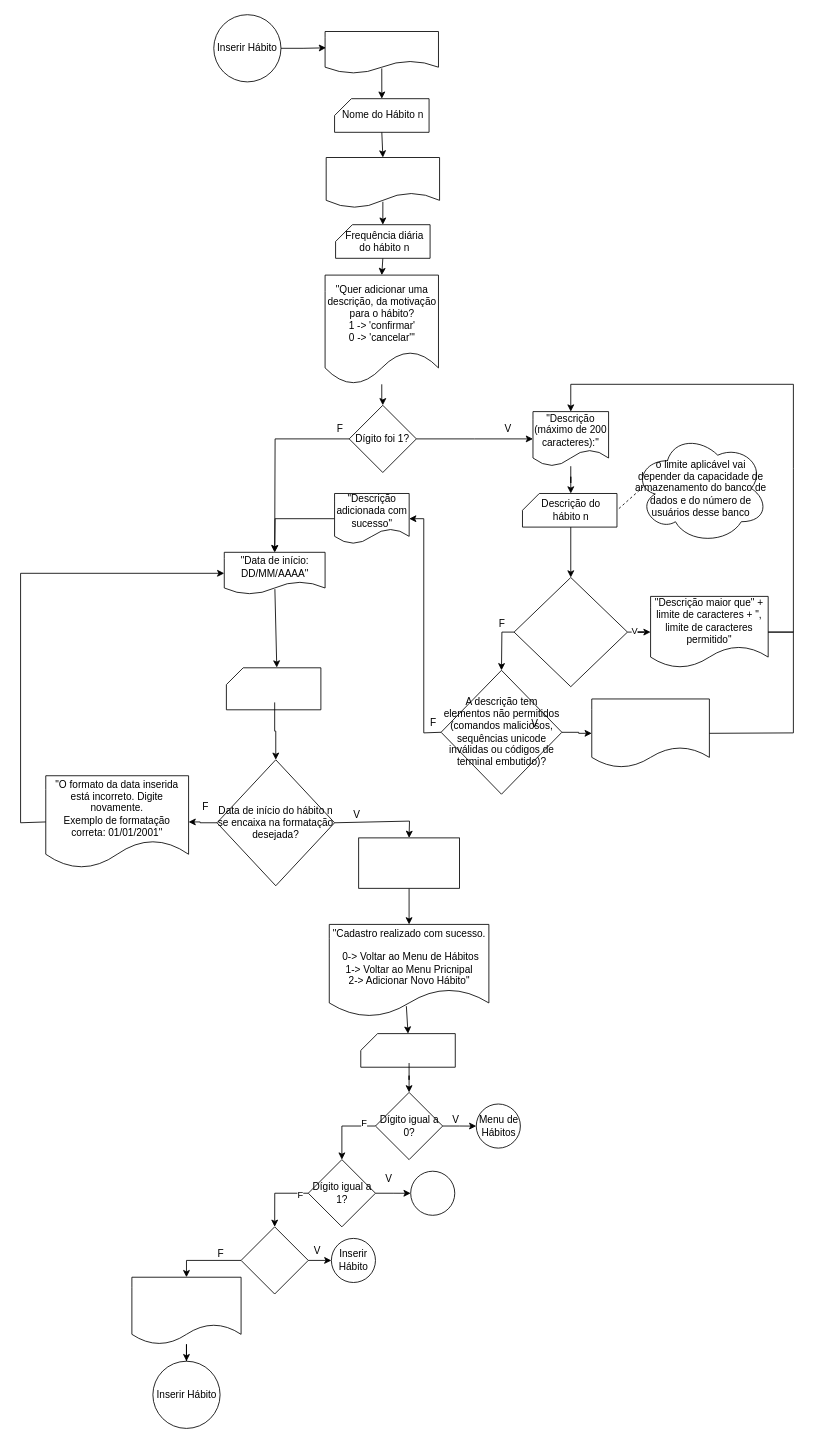
The diagram is 815 pixels wide and 1443 high, and some of its shapes have lost their labels. The shapes that lost their labels are listed below. From the top down, each one's box as (x1, y1, x2, y2) in pixels, then its label:
(324, 31, 438, 74): "Nome do hábito:"
(325, 157, 440, 208): "Insira a frequência diária desejada para o hábito:"
(513, 577, 627, 687): Descrição do hábito n é maior que limite de caracteres da descrição?
(226, 667, 321, 710): Data de Início do Hábito n
(591, 698, 709, 768): "Sua descrição possui componentes irregulares no texto. Escreva-a novamente"
(358, 837, 459, 888): Descrição do hábito n é guardada no banco de dados
(360, 1033, 455, 1067): Dígito de Escolha
(410, 1170, 455, 1215): Menu Principal
(240, 1226, 308, 1294): Dígito igual a 2?
(131, 1276, 241, 1344): "Dígito inválido. Digite novamente."
